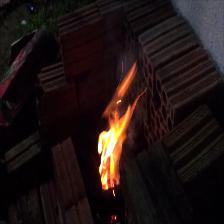fire: (85, 53, 154, 205)
